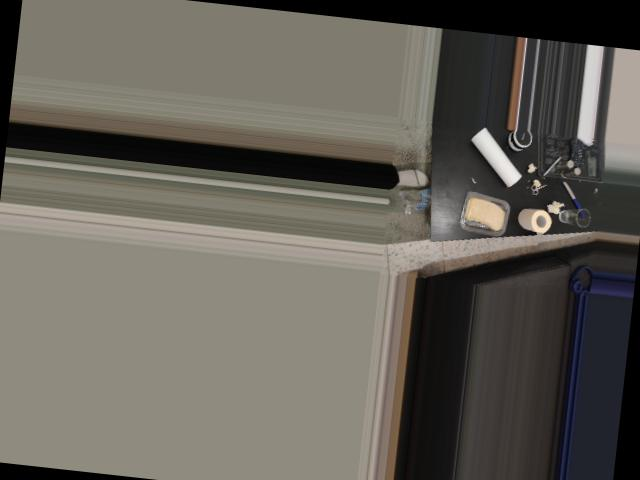cheese: (453, 188, 512, 239)
